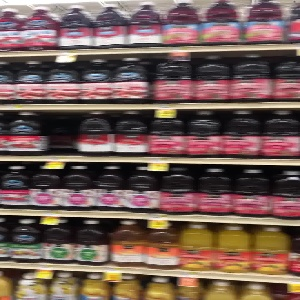void: (44, 109, 79, 156)
